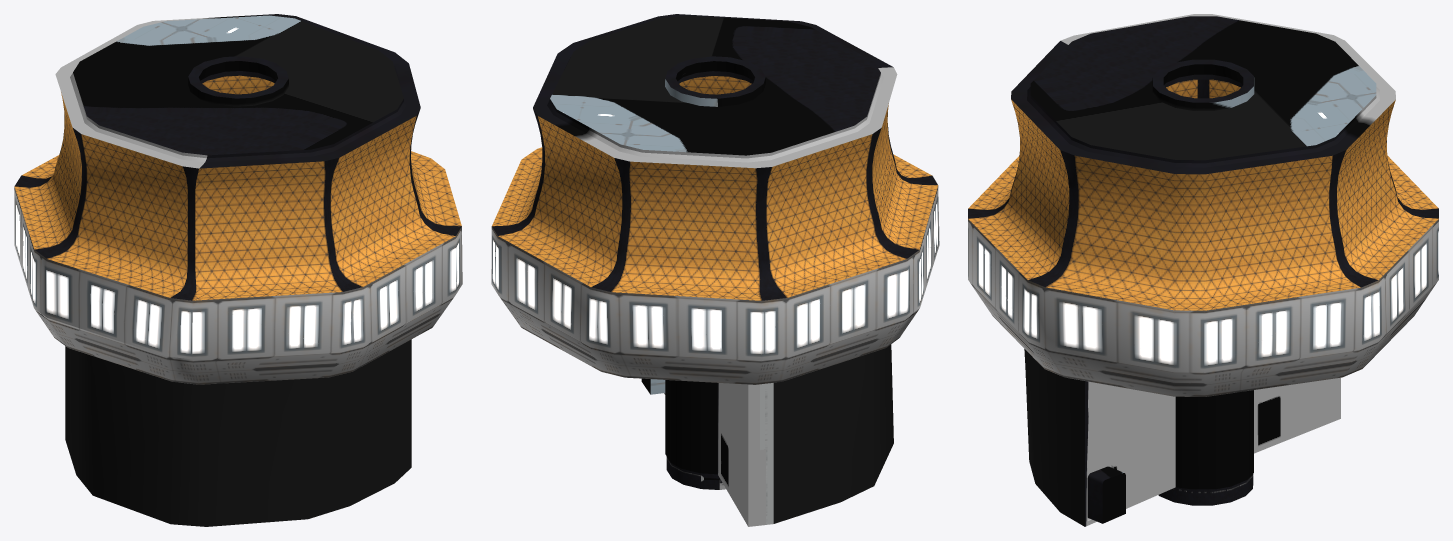
Rendered from Floor_02.fbx.
3 views of the same model, side by side, from view 1: azimuth 30°, elevation 25°; view 2: azimuth 150°, elevation 25°; view 3: azimuth 270°, elevation 25° (orthographic). The views are drawn at different scales.
Parts seen in each view (by area): view 1: Circle.022; view 2: Circle.022; view 3: Circle.022.
Part boxes in pixels (x1,y1,x2,y2): Circle.022: (14, 14, 462, 526); Circle.022: (491, 14, 939, 526); Circle.022: (968, 14, 1438, 526).
Size of the model in its own units: 1439 by 1362 by 1422.
